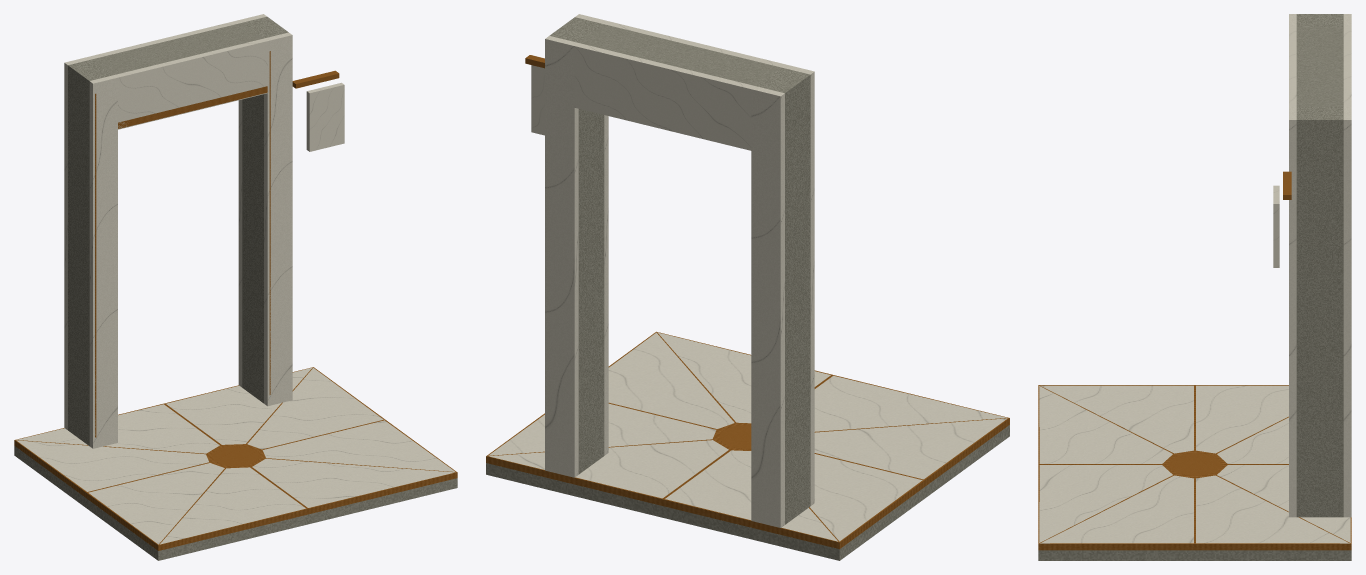
3 renders of one model, left to right at view 1: azimuth 30°, elevation 25°; view 2: azimuth 150°, elevation 25°; view 3: azimuth 270°, elevation 25°, orthographic. The views are drawn at different scales.
Visible parts, largest first — view 1: Marble jamb facing.002, Marble jamb facing, Stone jamb, Marble head facing, Stone jamb.001, Recessed continuous bronze inlay bed, Replaceable flush radial marble floor sector.002, Replaceable flush radial marble floor sector.006, Replaceable flush radial marble floor sector.001, Replaceable flush radial marble floor sector.007, Replaceable flush radial marble floor sector, Replaceable flush radial marble floor sector.003 (+12 smaller); view 2: Marble jamb facing.001, Marble jamb facing.003, Stone jamb, Marble head facing.001, Stone jamb.001, Replaceable flush radial marble floor sector.007, Stone floor substrate, Recessed continuous bronze inlay bed, Replaceable flush radial marble floor sector.002, Replaceable flush radial marble floor sector, Replaceable flush radial marble floor sector.004, Replaceable flush radial marble floor sector.006 (+9 smaller); view 3: Stone jamb.001, Replaceable flush radial marble floor sector.007, Replaceable flush radial marble floor sector.002, Replaceable flush radial marble floor sector.003, Replaceable flush radial marble floor sector.001, Replaceable flush radial marble floor sector, Replaceable flush radial marble floor sector.006, Recessed continuous bronze inlay bed, Door masonry head, Marble jamb facing.003, Stone floor substrate, Marble jamb facing.002 (+7 smaller).
Part boxes in pixels (x1=…): Marble jamb facing.002: x1=264, y1=32, x2=292, y2=406; Marble jamb facing: x1=89, y1=75, x2=117, y2=448; Stone jamb: x1=68, y1=59, x2=113, y2=445; Marble head facing: x1=115, y1=38, x2=267, y2=129; Stone jamb.001: x1=242, y1=16, x2=288, y2=403; Recessed continuous bronze inlay bed: x1=14, y1=367, x2=457, y2=550; Replaceable flush radial marble floor sector.002: x1=262, y1=420, x2=455, y2=471; Replaceable flush radial marble floor sector.006: x1=16, y1=440, x2=208, y2=491; Replaceable flush radial marble floor sector.001: x1=252, y1=458, x2=455, y2=507; Replaceable flush radial marble floor sector.007: x1=88, y1=463, x2=224, y2=544; Replaceable flush radial marble floor sector: x1=160, y1=467, x2=305, y2=544; Replaceable flush radial marble floor sector.003: x1=247, y1=368, x2=383, y2=449; Marble jamb facing.001: x1=751, y1=86, x2=784, y2=527; Marble jamb facing.003: x1=545, y1=36, x2=578, y2=477; Stone jamb: x1=756, y1=67, x2=810, y2=524; Marble head facing.001: x1=574, y1=43, x2=755, y2=150; Stone jamb.001: x1=549, y1=17, x2=604, y2=474; Replaceable flush radial marble floor sector.007: x1=814, y1=418, x2=1007, y2=479; Stone floor substrate: x1=486, y1=425, x2=1009, y2=560; Recessed continuous bronze inlay bed: x1=486, y1=331, x2=1009, y2=549; Replaceable flush radial marble floor sector.002: x1=608, y1=332, x2=734, y2=428; Replaceable flush radial marble floor sector: x1=814, y1=375, x2=1006, y2=431; Replaceable flush radial marble floor sector.004: x1=489, y1=440, x2=728, y2=498; Replaceable flush radial marble floor sector.006: x1=810, y1=454, x2=922, y2=541; Stone jamb.001: x1=1296, y1=106, x2=1343, y2=517; Replaceable flush radial marble floor sector.007: x1=1040, y1=385, x2=1193, y2=453; Replaceable flush radial marble floor sector.002: x1=1040, y1=475, x2=1193, y2=543; Replaceable flush radial marble floor sector.003: x1=1196, y1=475, x2=1349, y2=543; Replaceable flush radial marble floor sector.001: x1=1039, y1=465, x2=1172, y2=542; Replaceable flush radial marble floor sector: x1=1039, y1=386, x2=1172, y2=463; Replaceable flush radial marble floor sector.006: x1=1196, y1=385, x2=1288, y2=453; Recessed continuous bronze inlay bed: x1=1038, y1=385, x2=1351, y2=550; Door masonry head: x1=1296, y1=27, x2=1343, y2=106; Marble jamb facing.003: x1=1343, y1=106, x2=1351, y2=517; Stone floor substrate: x1=1038, y1=550, x2=1351, y2=560; Marble jamb facing.002: x1=1289, y1=106, x2=1296, y2=517.
Bounding box in the file's own units: 2.4 × 2.92 × 2.
Materials: 3 (3 with a texture image).
